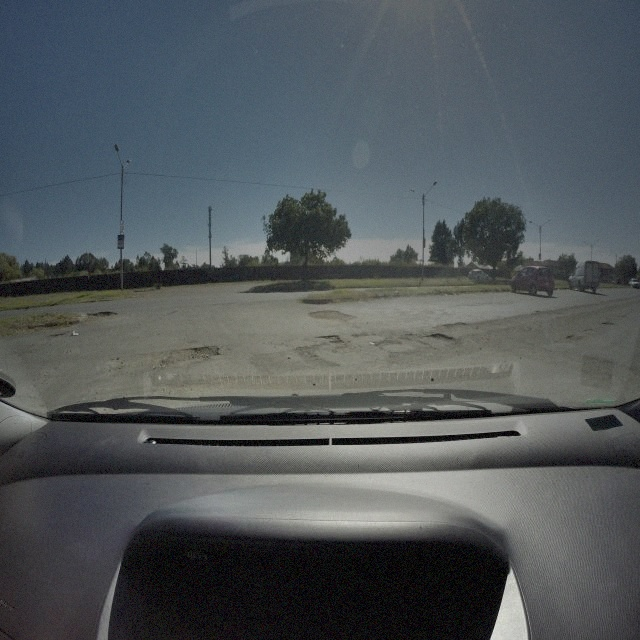pothole: (294, 346, 336, 368), (308, 307, 357, 325), (167, 347, 221, 362), (427, 332, 452, 346), (89, 310, 120, 320), (323, 334, 344, 345), (564, 332, 578, 340), (603, 320, 616, 327)
